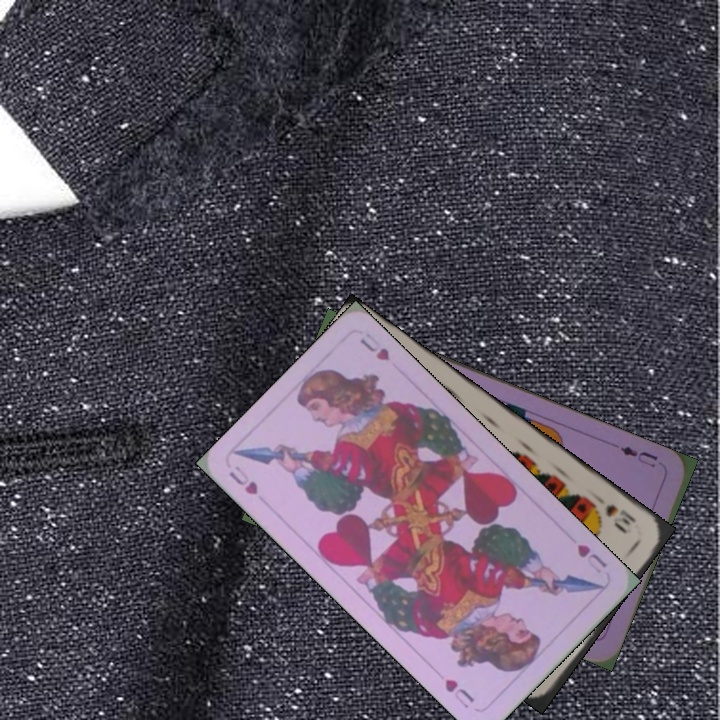EU: (616, 442, 660, 471)
HU: (572, 540, 610, 576), (225, 461, 261, 498)
S10: (592, 492, 639, 534)
